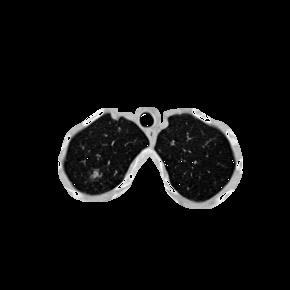PN: (90, 170, 98, 178)
